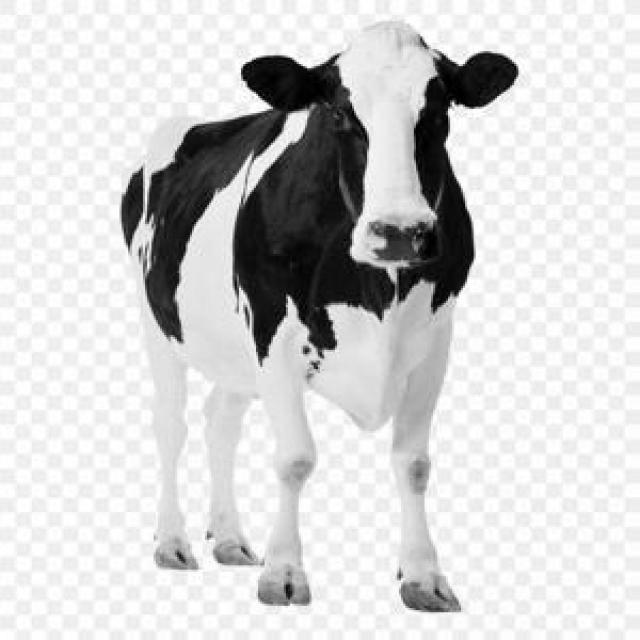cow: (121, 22, 516, 610)
